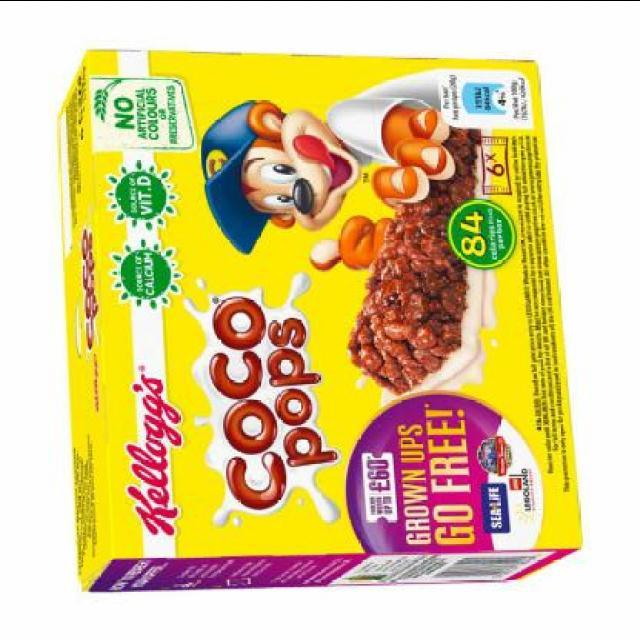Cereal bar: (49, 47, 583, 593)
